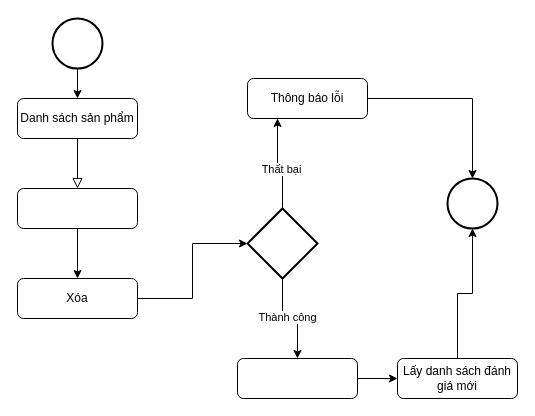
The diagram is 535 pixels wide and 416 high, and some of its shapes have lost their labels. The centre of each missing label's shape, as x and y in pixels:
Thông báo thành công: point (297, 378)
Xem danh sách đánh giá: point (77, 208)
